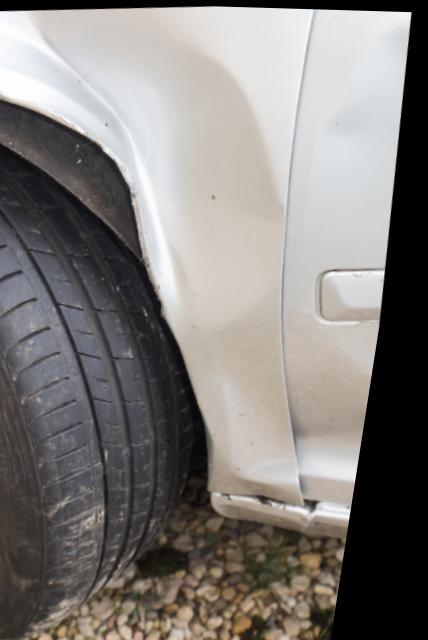dent: (0, 6, 290, 334), (309, 18, 411, 389)
